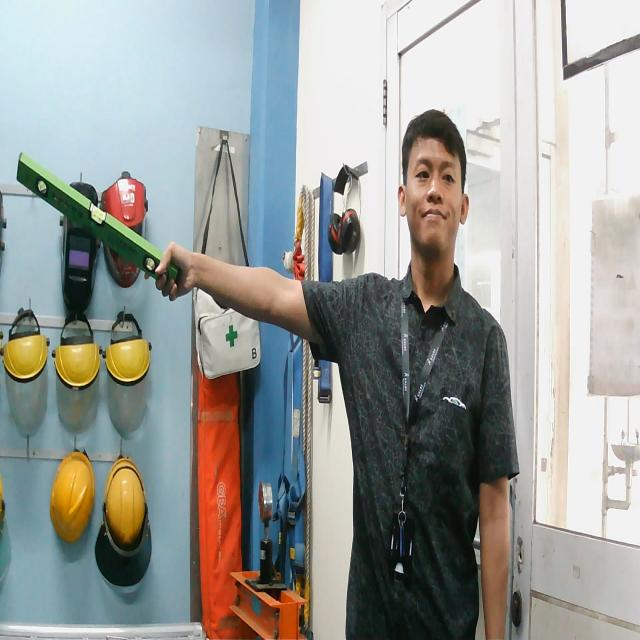water_pass: (12, 141, 186, 301)
